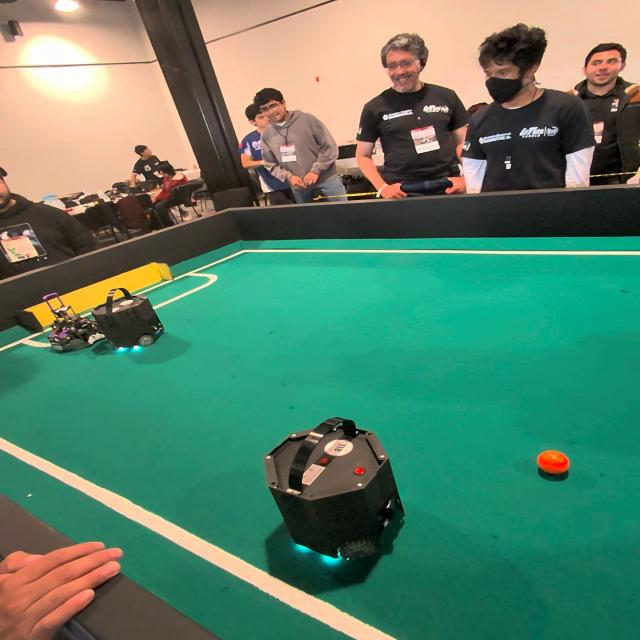Robot: (260, 408, 420, 586), (97, 285, 180, 360), (48, 297, 104, 358)
pelota: (538, 452, 571, 479)
